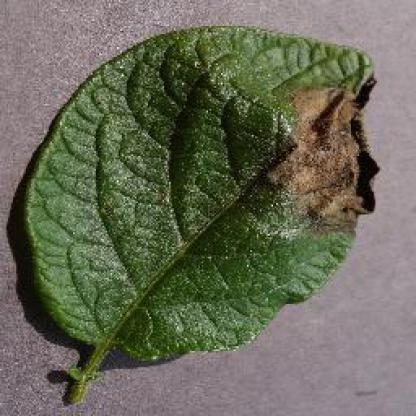bad leaf: (0, 30, 409, 409)
